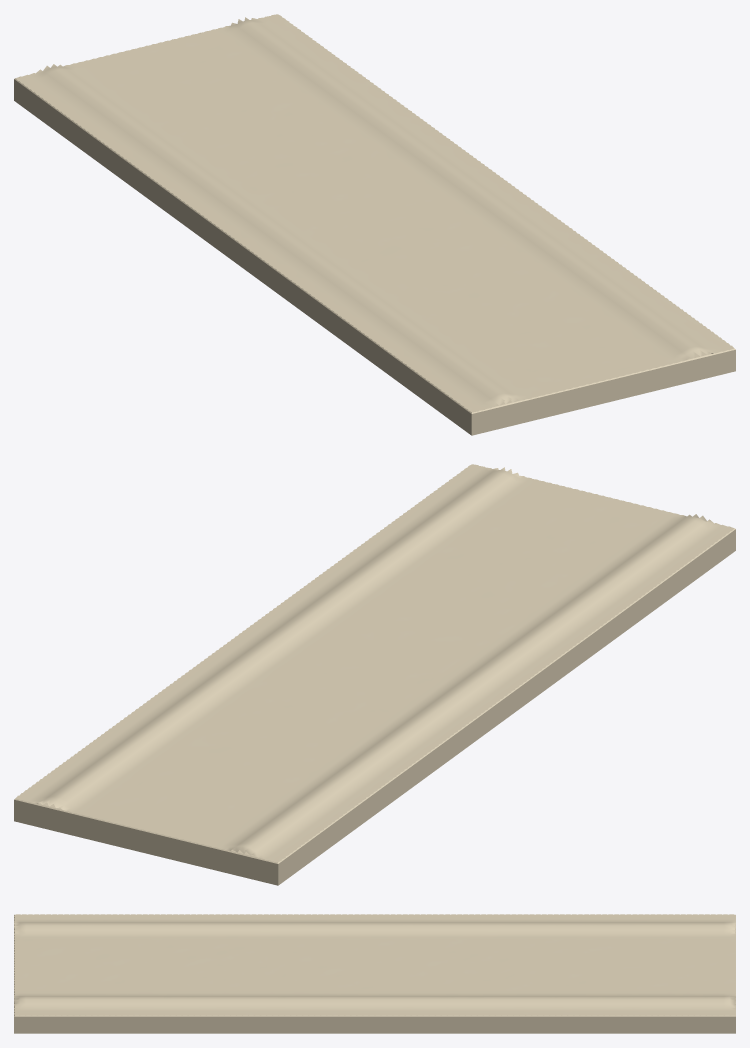
Rendered from mahsulot.glb.
3 views of the same model, one above another, from view 1: azimuth 30°, elevation 25°; view 2: azimuth 150°, elevation 25°; view 3: azimuth 270°, elevation 25° (orthographic). The views are drawn at different scales.
Visible parts, largest first — view 1: mahsulot; view 2: mahsulot; view 3: mahsulot.
Part boxes in pixels (x1,y1,x2,y2): mahsulot: [14, 14, 735, 435]; mahsulot: [14, 464, 735, 885]; mahsulot: [14, 914, 735, 1033].
Bounding box in the file's own units: 0.4 × 0.0394 × 1.2.
